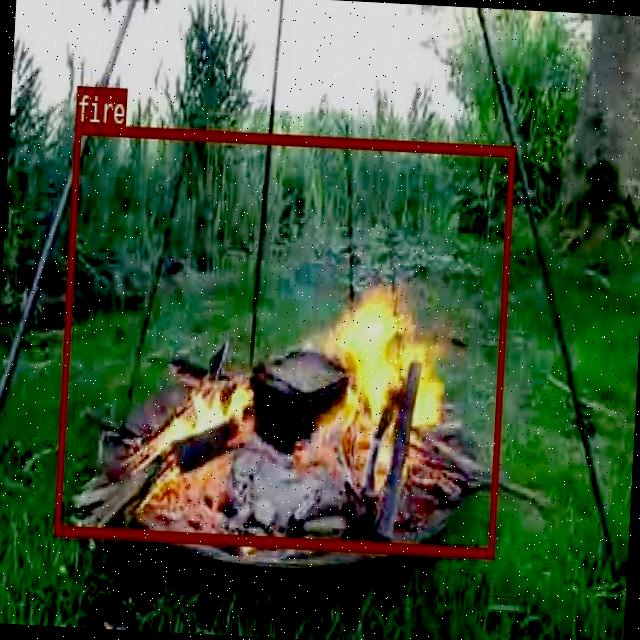fire: (53, 122, 514, 556)
